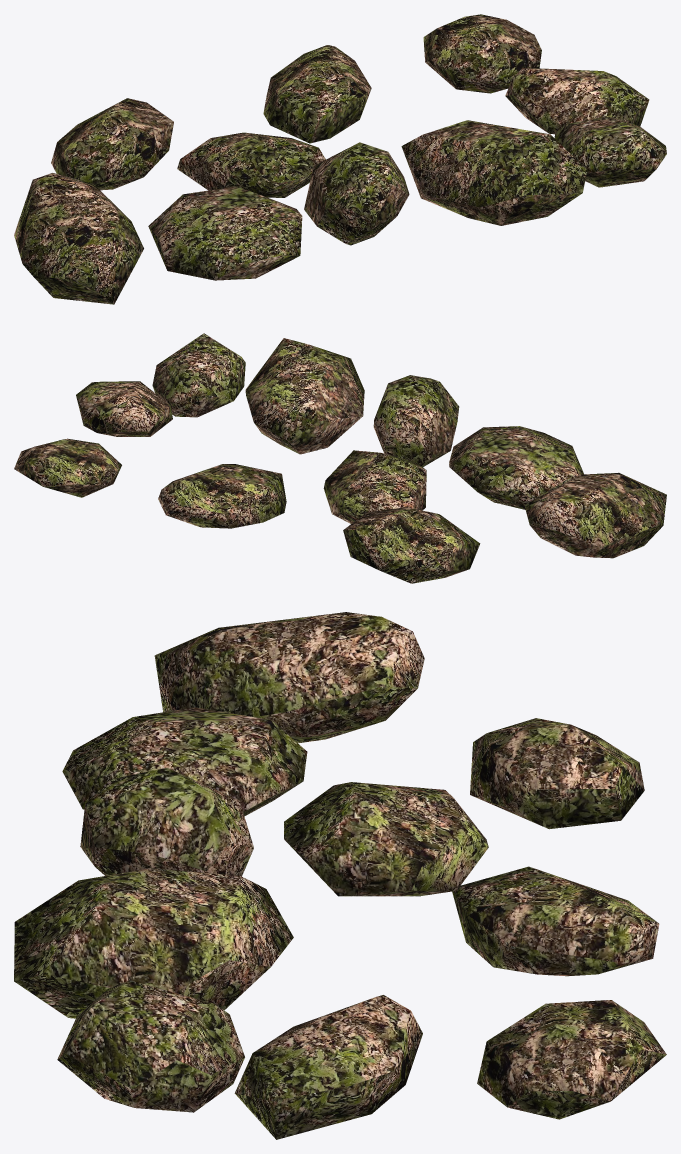
The model's file is KM_VOB_RIVER_ROCKS_05_2.glb.
The picture shows the model from 3 angles, top to bottom: view 1: azimuth 30°, elevation 25°; view 2: azimuth 150°, elevation 25°; view 3: azimuth 270°, elevation 25°; orthographic projection. The views are drawn at different scales.
Parts seen in each view (by area): view 1: Mesh; view 2: Mesh; view 3: Mesh.
Boxes of the visible parts, x1=… form: Mesh: x1=14, y1=14, x2=666, y2=304; Mesh: x1=14, y1=333, x2=666, y2=583; Mesh: x1=14, y1=612, x2=666, y2=1139.
Bounding box in the file's own units: 1.31 × 0.1933 × 0.7643.
Materials: 1 (1 with a texture image).
